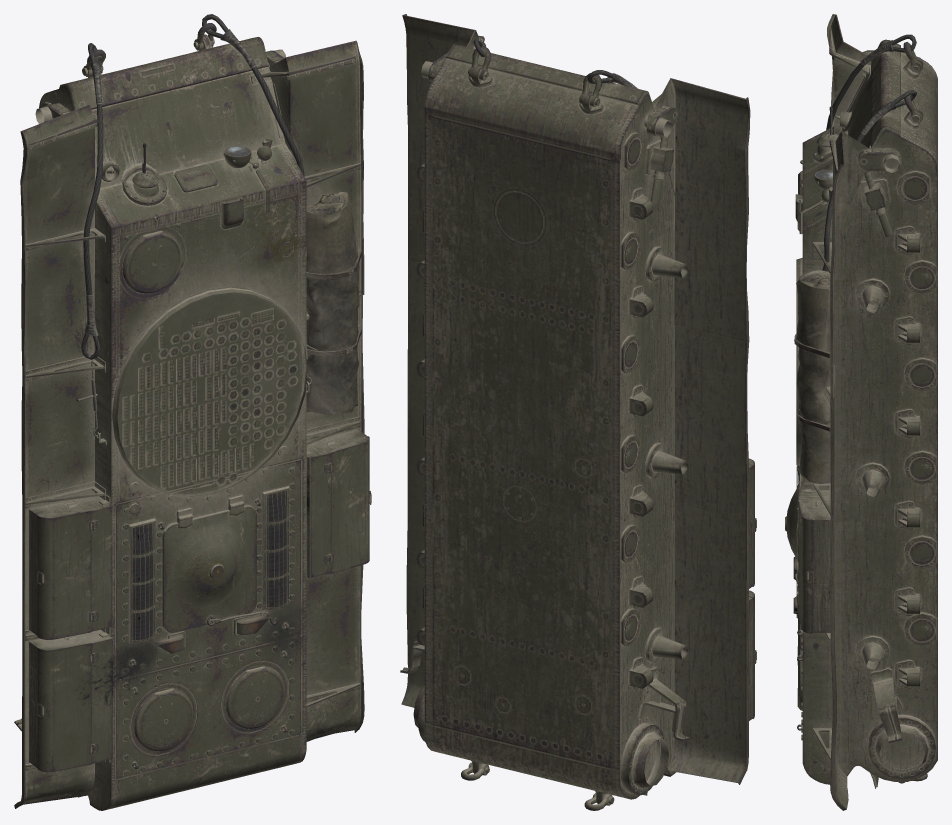
File: Hull.glb
3 views of the same model, side by side, from view 1: azimuth 30°, elevation 25°; view 2: azimuth 150°, elevation 25°; view 3: azimuth 270°, elevation 25° (orthographic). The views are drawn at different scales.
Visible parts, largest first — view 1: set_0_group_0; view 2: set_0_group_0; view 3: set_0_group_0.
Boxes of the visible parts, bbox=[...] form: set_0_group_0: bbox=[14, 14, 371, 810]; set_0_group_0: bbox=[400, 14, 756, 810]; set_0_group_0: bbox=[785, 14, 937, 810].
Size of the model in its own units: 3.3 by 6.82 by 1.37.
Materials: 1 (1 with a texture image).
